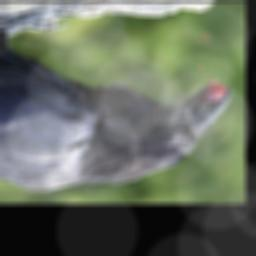Crow: (0, 2, 233, 191)
